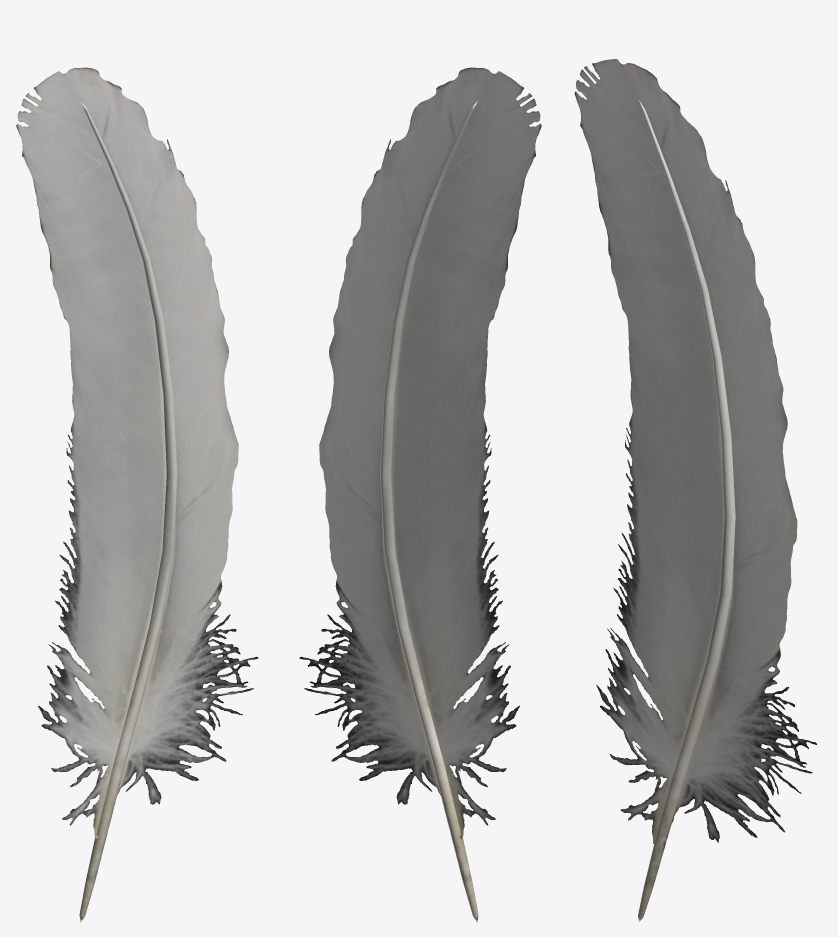
Rendered from Quill2.fbx.
The picture shows the model from 3 angles, left to right: view 1: azimuth 30°, elevation 25°; view 2: azimuth 150°, elevation 25°; view 3: azimuth 330°, elevation 25°; orthographic projection.
Visible parts, largest first — view 1: Quill_LOD0; view 2: Quill_LOD0; view 3: Quill_LOD0.
Boxes of the visible parts, x1,y1,x2,y2 form: Quill_LOD0: [16, 67, 258, 922]; Quill_LOD0: [299, 67, 541, 922]; Quill_LOD0: [574, 59, 816, 922].
Size of what is drawn, in the model's own units: 19.03 by 65.85 by 0.8368.
